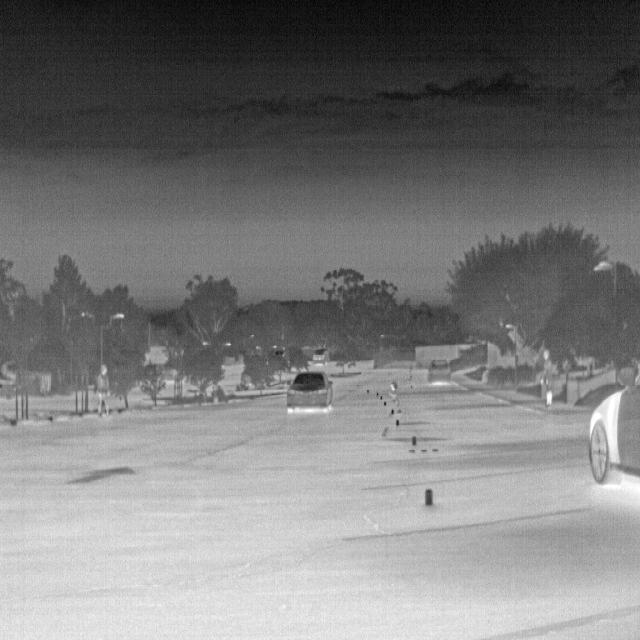Pedestrian: (94, 362, 110, 417), (540, 348, 554, 410), (386, 380, 403, 417)
Vehicle: (285, 368, 333, 412), (426, 357, 450, 384)
